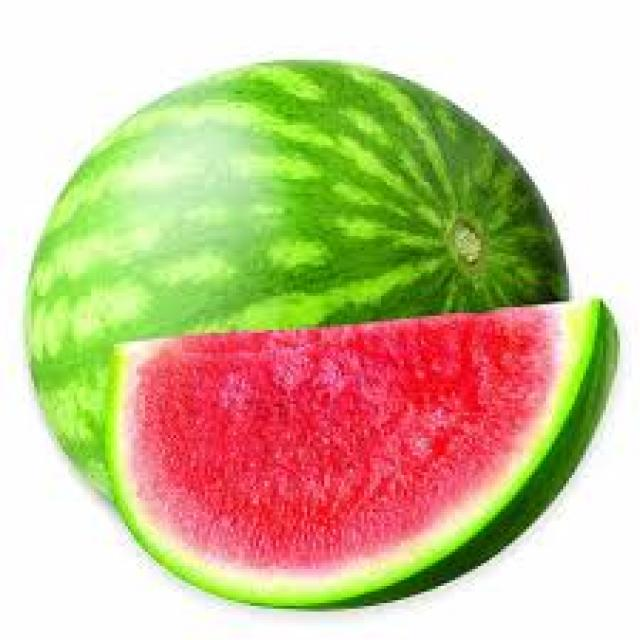watermelon: (20, 54, 569, 504), (102, 293, 620, 612)
